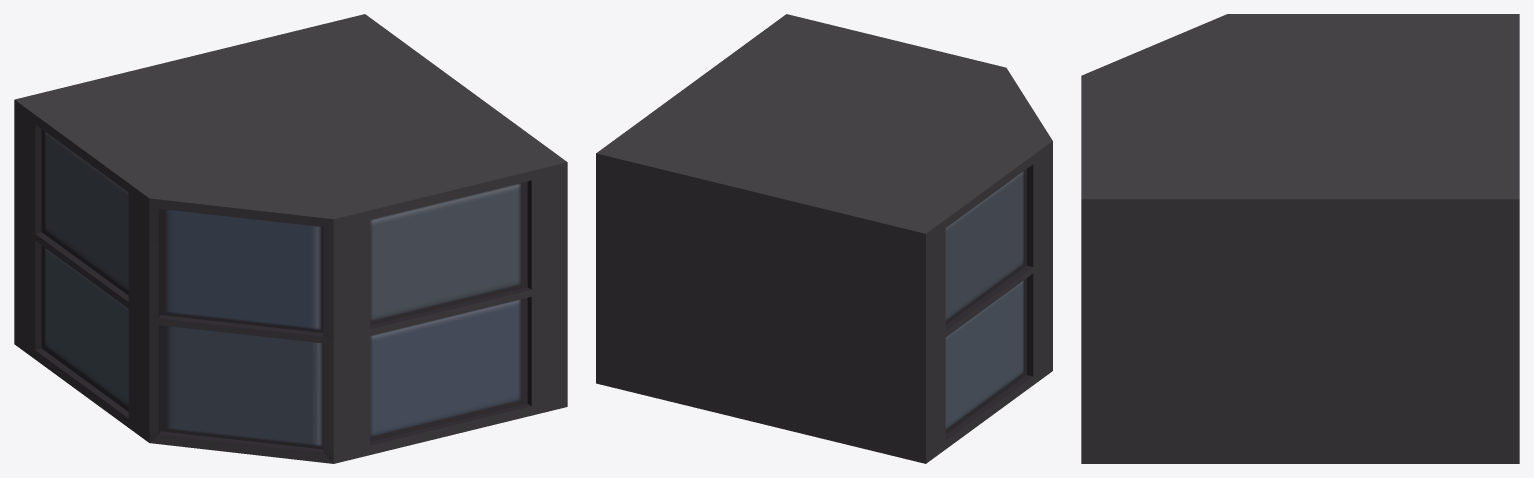
Rendered from Bock_G3.fbx.
The picture shows the model from 3 angles, left to right: view 1: azimuth 30°, elevation 25°; view 2: azimuth 150°, elevation 25°; view 3: azimuth 270°, elevation 25°; orthographic projection. The views are drawn at different scales.
Parts seen in each view (by area): view 1: Bock_G3; view 2: Bock_G3; view 3: Bock_G3.
Boxes of the visible parts, <box> form: Bock_G3: <box>14,14,567,463</box>; Bock_G3: <box>596,14,1052,463</box>; Bock_G3: <box>1081,14,1519,463</box>.
Bounding box in the file's own units: 600 × 400 × 600.
Materials: 1 (1 with a texture image).
